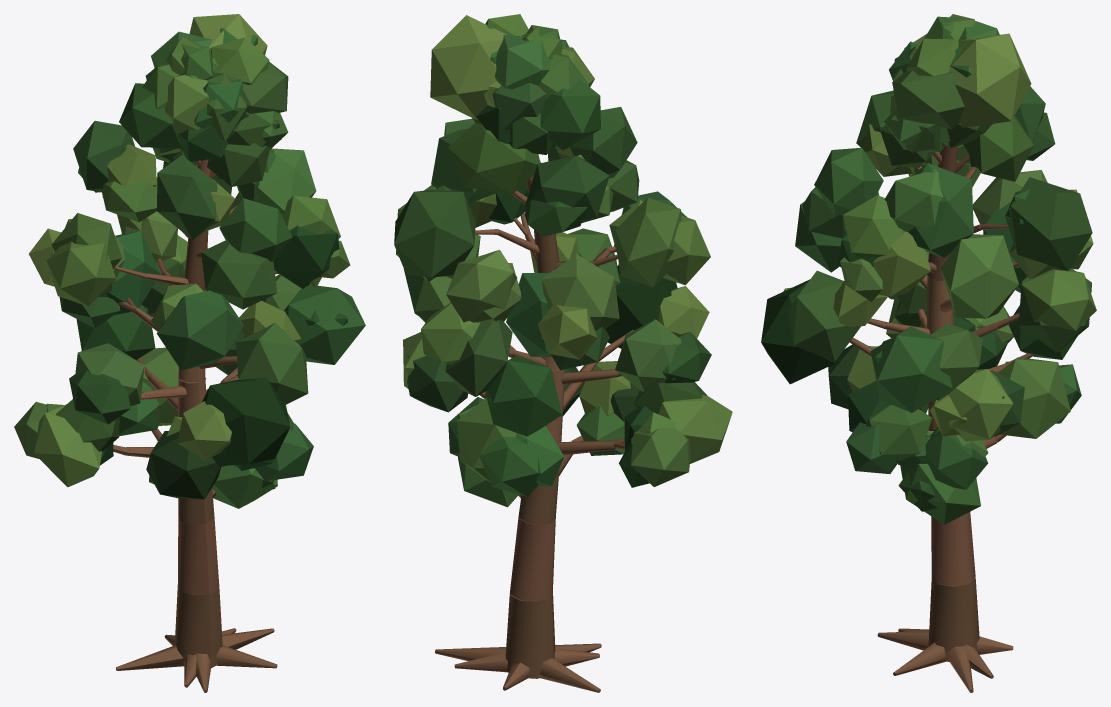
Rendered from tree_normal_medium_redwood_b.glb.
3 renders of one model, left to right at view 1: azimuth 30°, elevation 25°; view 2: azimuth 150°, elevation 25°; view 3: azimuth 270°, elevation 25°, orthographic. The views are drawn at different scales.
Parts seen in each view (by area): view 1: leaves, wood; view 2: leaves, wood; view 3: leaves, wood.
Part boxes in pixels (x1,y1,x2,y2): leaves: [14, 14, 365, 508]; wood: [113, 159, 278, 692]; leaves: [394, 14, 732, 507]; wood: [435, 154, 633, 692]; leaves: [761, 14, 1096, 524]; wood: [849, 144, 1034, 692].
Bounding box in the file's own units: 6.16 × 11.86 × 5.62.
